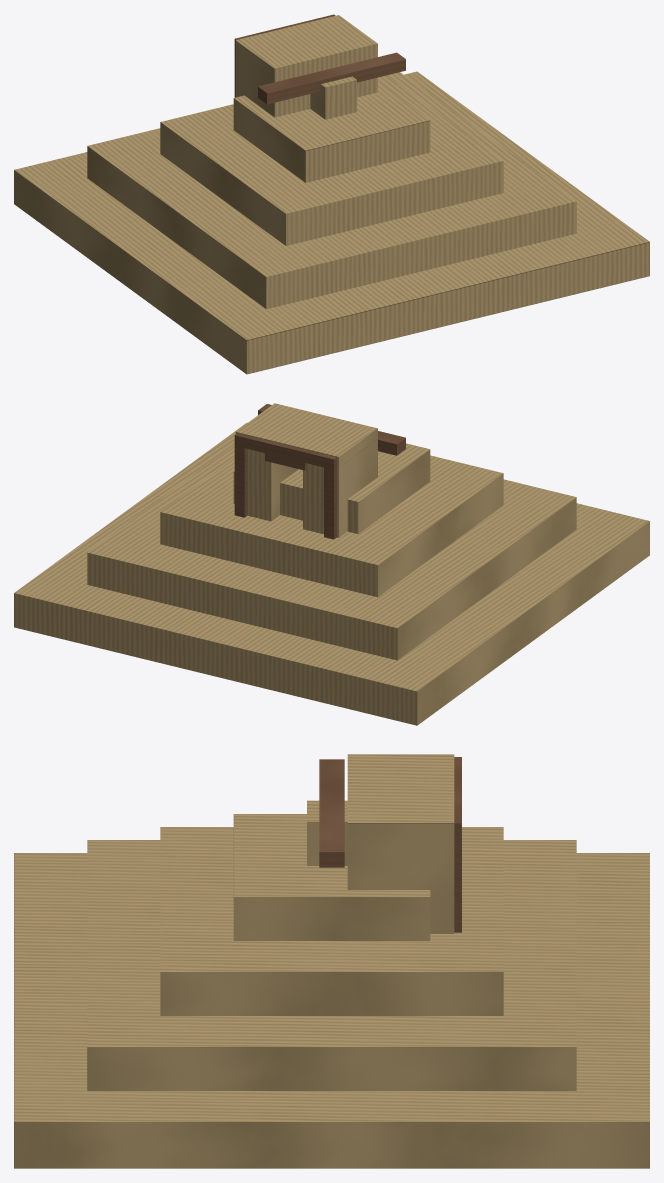
Rendered from med_smoke_gablet.glb.
3 renders of one model, top to bottom at view 1: azimuth 30°, elevation 25°; view 2: azimuth 150°, elevation 25°; view 3: azimuth 270°, elevation 25°, orthographic. The views are drawn at different scales.
Parts seen in each view (by area): view 1: med_smoke_gablet; view 2: med_smoke_gablet; view 3: med_smoke_gablet.
Part boxes in pixels (x1,y1,x2,y2): med_smoke_gablet: (14, 14, 649, 374); med_smoke_gablet: (14, 403, 649, 725); med_smoke_gablet: (14, 754, 649, 1168).
Bounding box in the file's own units: 4.06 × 1.73 × 4.06.
1 material, 1 textured.
